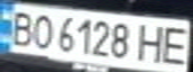1: (72, 16, 93, 56)
2: (90, 17, 115, 59)
6: (54, 14, 78, 53)
8: (109, 19, 136, 61)
B: (3, 8, 39, 47)
E: (157, 22, 193, 65)
H: (136, 20, 169, 64)
O: (27, 11, 57, 50)
